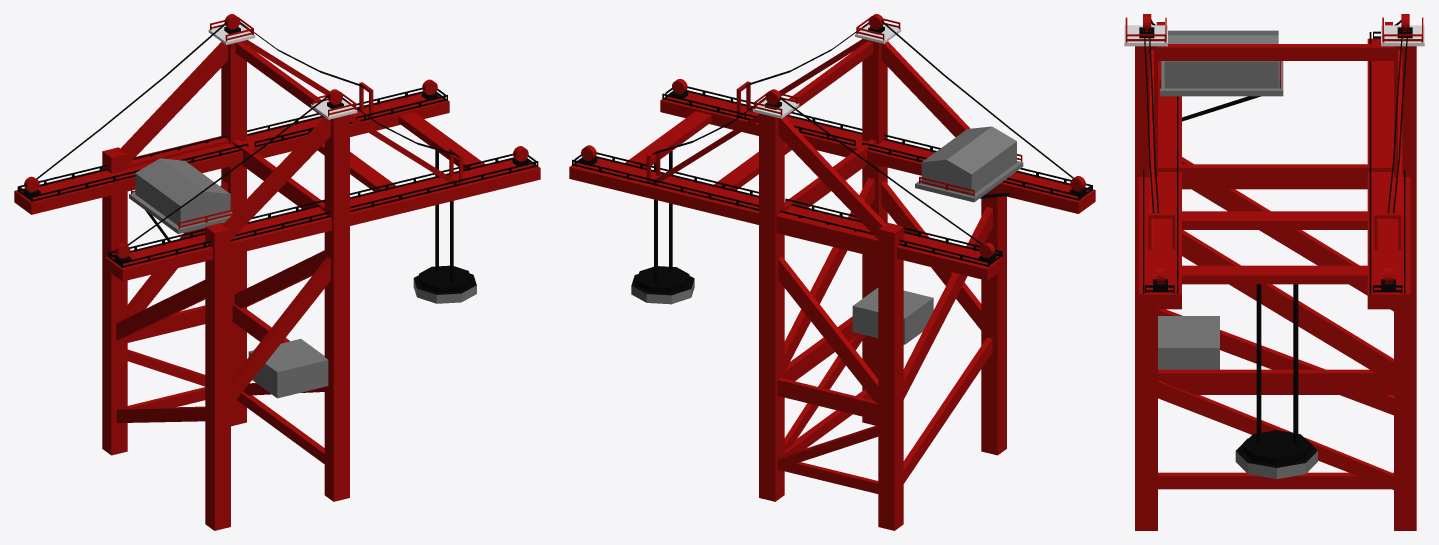
The model's file is Ship Loader_2.fbx.
The picture shows the model from 3 angles, left to right: view 1: azimuth 30°, elevation 25°; view 2: azimuth 150°, elevation 25°; view 3: azimuth 270°, elevation 25°; orthographic projection. The views are drawn at different scales.
Visible parts, largest first — view 1: Cube.309; view 2: Cube.309; view 3: Cube.309.
Part boxes in pixels (box(x1,y1,x2,y2)): Cube.309: box(14, 14, 540, 530); Cube.309: box(569, 14, 1095, 530); Cube.309: box(1124, 14, 1424, 530).
Bounding box in the file's own units: 6762 × 6277 × 3349.
